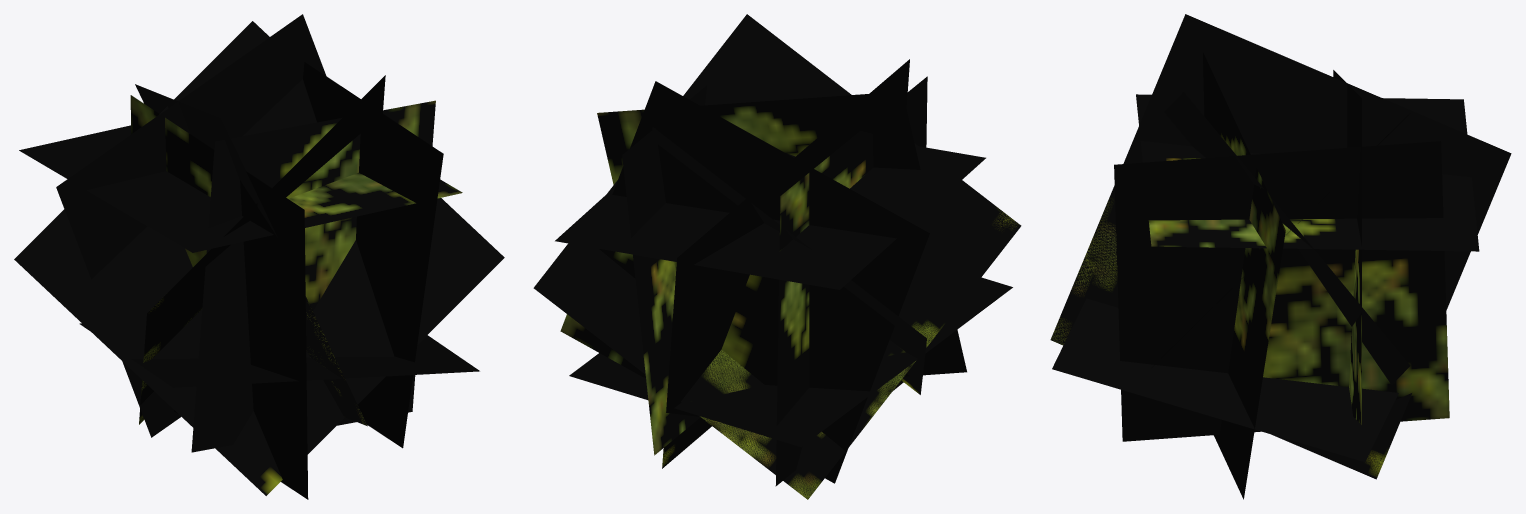
The model's file is beech_leaves_yellowish_4.obj.
3 views of the same model, side by side, from view 1: azimuth 30°, elevation 25°; view 2: azimuth 150°, elevation 25°; view 3: azimuth 270°, elevation 25° (orthographic). The views are drawn at different scales.
Parts seen in each view (by area): view 1: west, south, east, north, top, bottom; view 2: east, south, top, west, bottom, north; view 3: south, east, bottom, top, west.
Part boxes in pixels (x1,y1,x2,y2): west: (14, 21, 504, 495); south: (139, 62, 443, 448); east: (56, 14, 367, 437); north: (130, 95, 308, 499); top: (19, 125, 462, 252); bottom: (79, 323, 479, 387); east: (560, 59, 929, 483); south: (533, 14, 1021, 499); top: (555, 146, 985, 289); west: (597, 91, 966, 394); bottom: (569, 277, 1012, 446); north: (775, 76, 927, 486); south: (1114, 91, 1449, 441); east: (1050, 14, 1511, 479); bottom: (1052, 298, 1398, 462); top: (1136, 94, 1479, 251); west: (1152, 52, 1409, 499).
Bounding box in the file's own units: 2.08 × 1.98 × 2.11.
